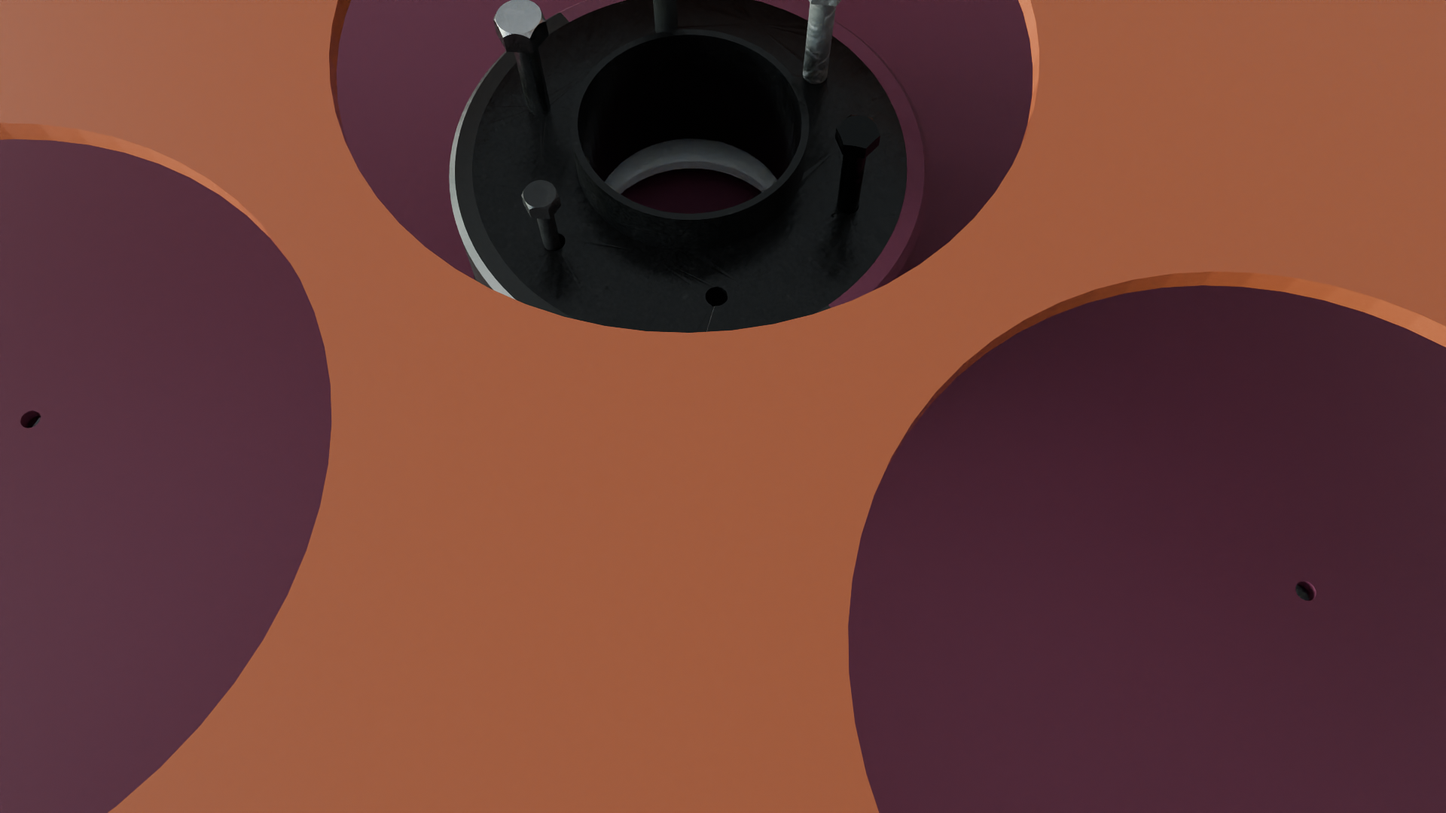bolt: (493, 0, 546, 38), (836, 114, 880, 148), (521, 180, 559, 210)
